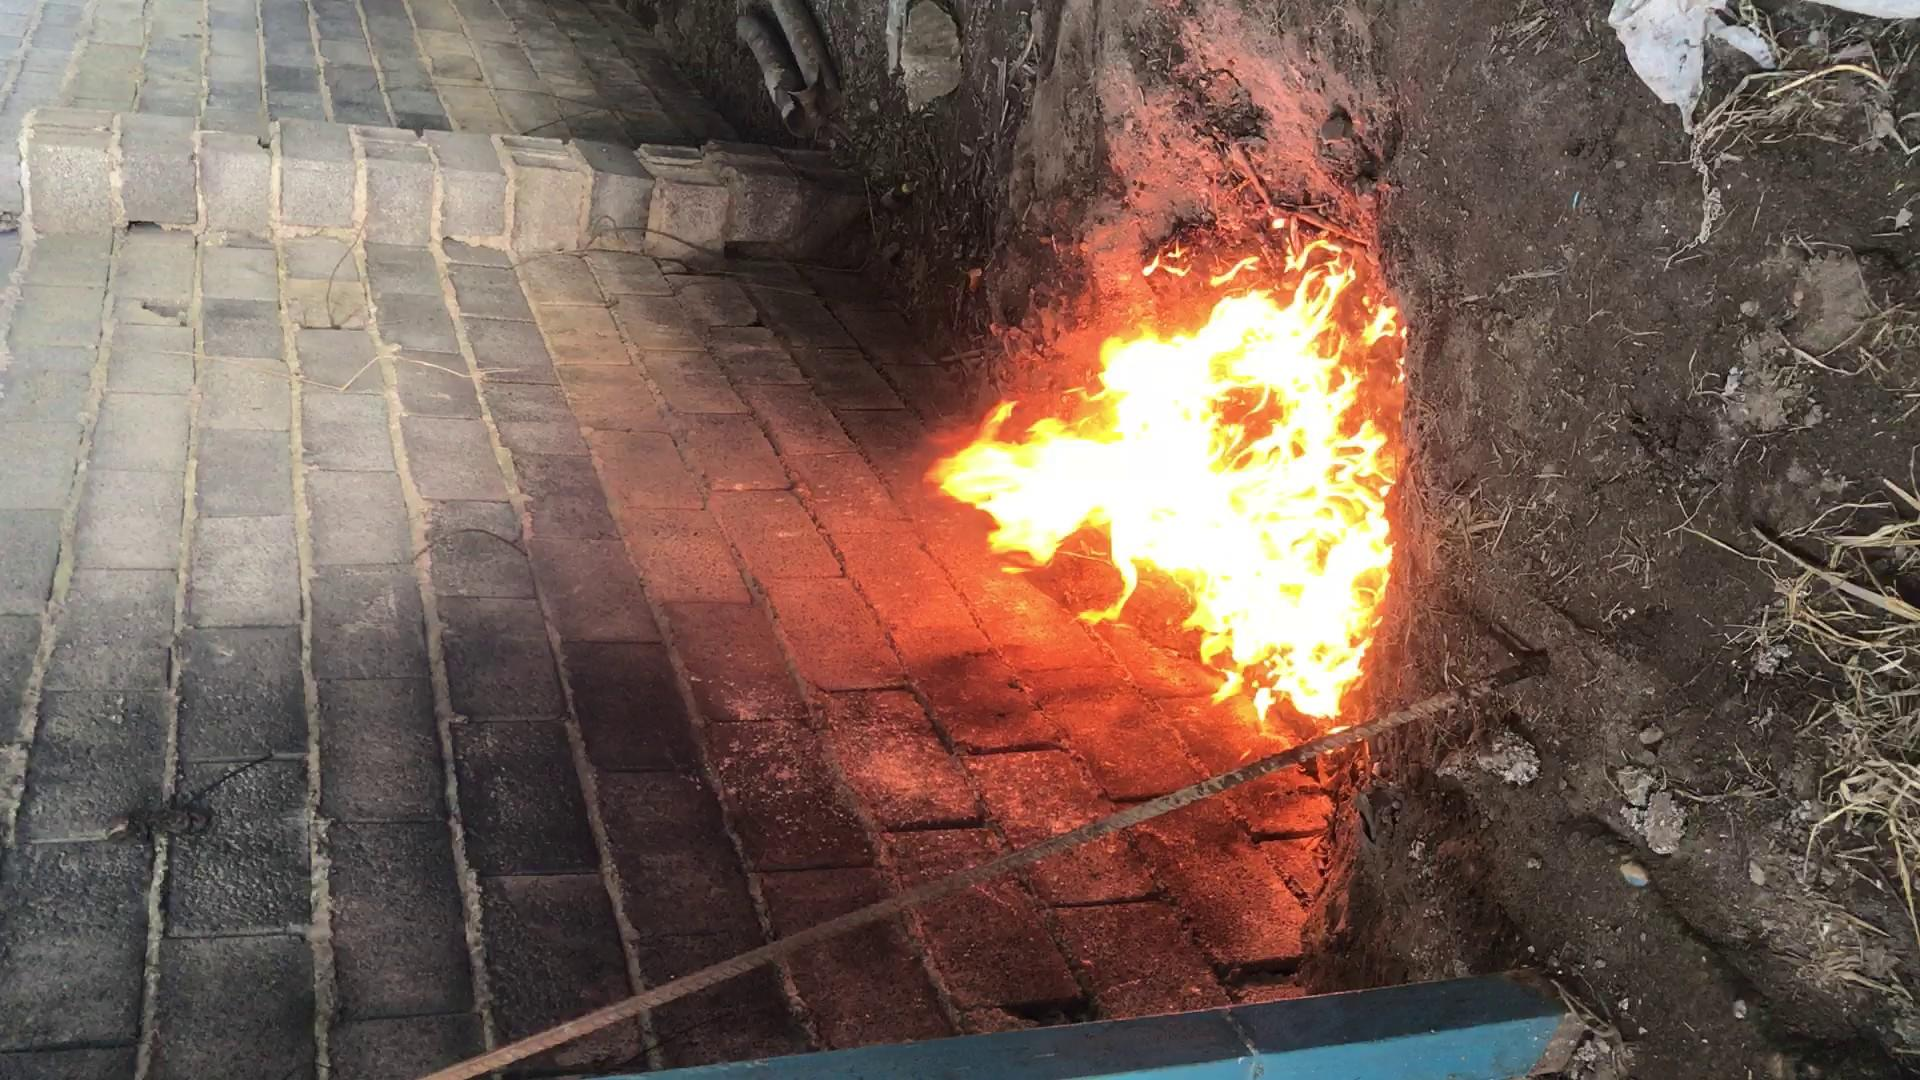fire: (626, 509, 1538, 767)
